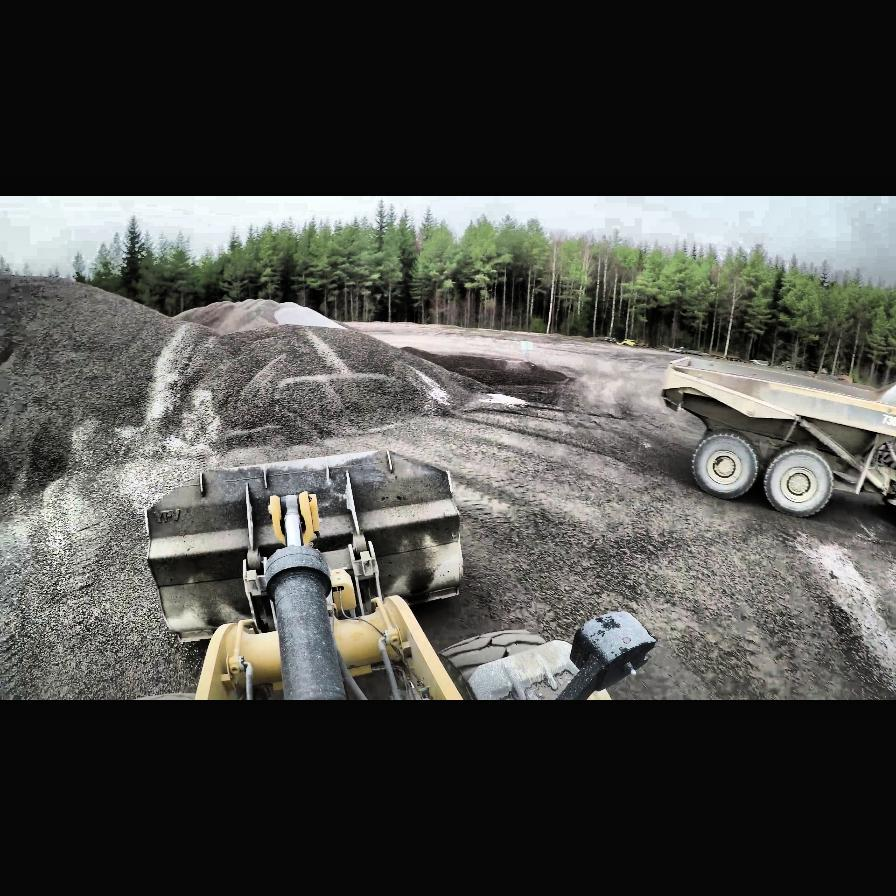anchor: (270, 491, 318, 547)
pile of gravel: (1, 273, 193, 499), (151, 324, 469, 442), (171, 298, 288, 334), (272, 302, 346, 328)
